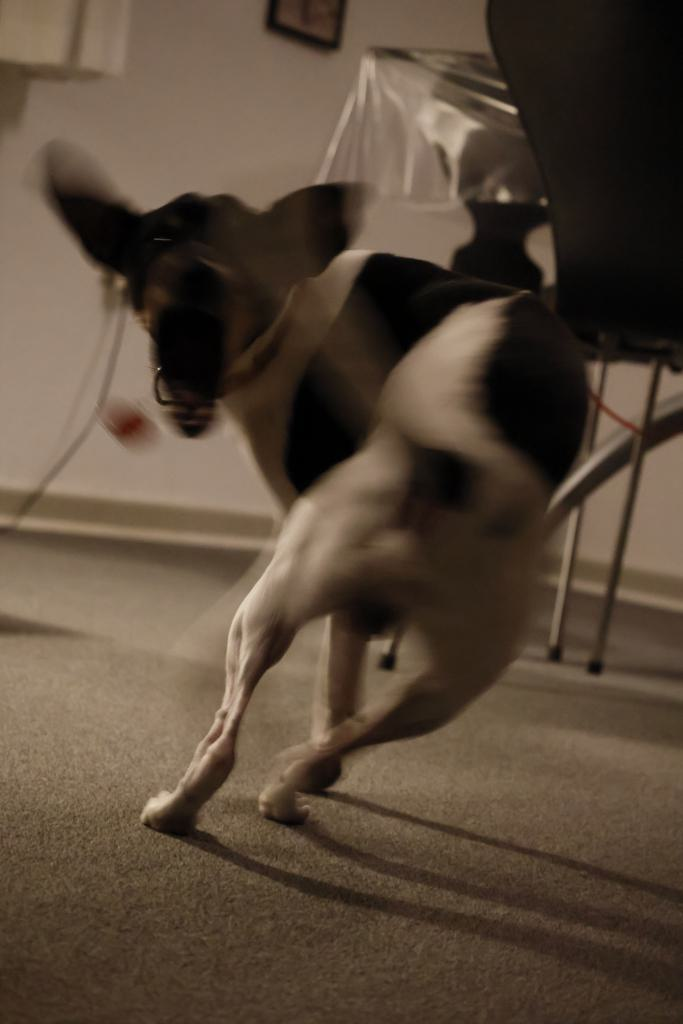Dog: (12, 130, 614, 851)
